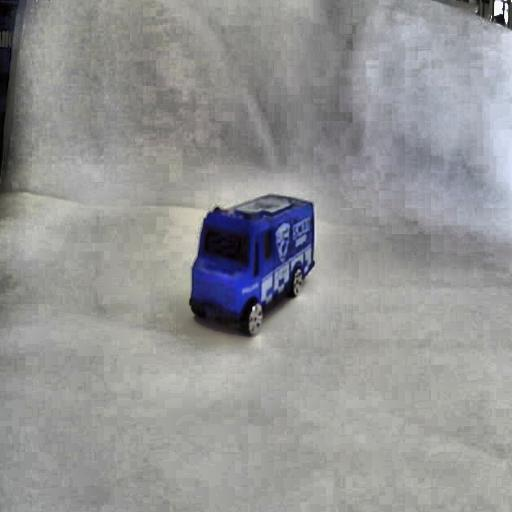police car: (186, 196, 320, 342)
